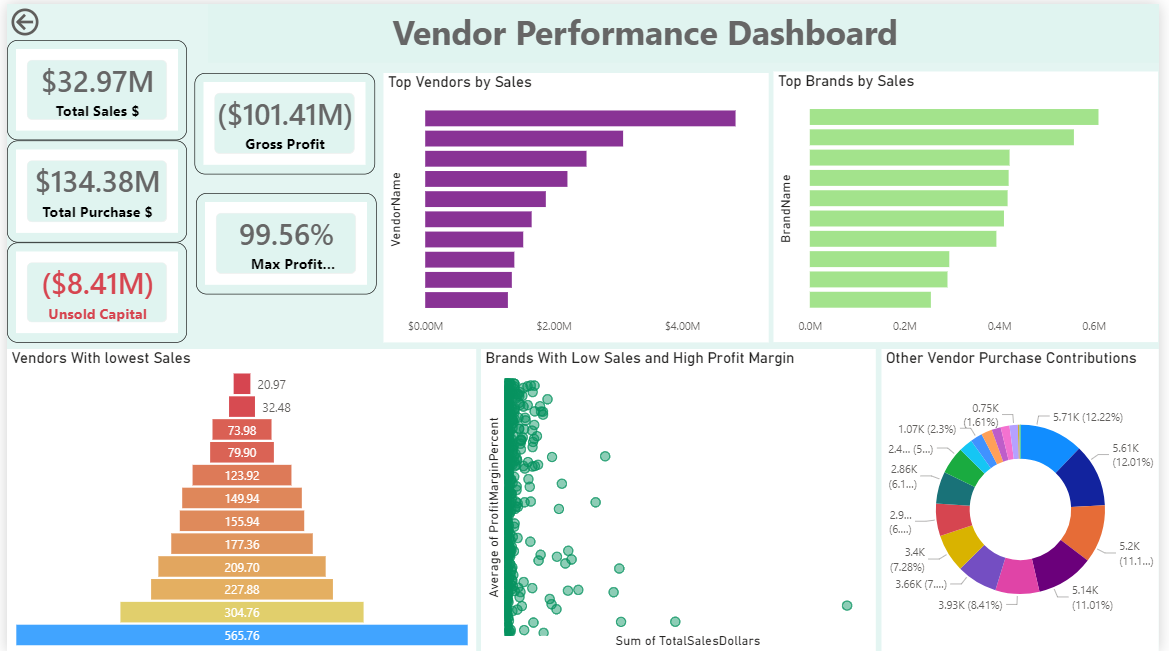

Layout of this report page (visuals, bound fields, positions):
{"tool":"powerbi","page":{"name":"Vendor & Brand Sales","canvas":[1280,720],"ordinal":0},"visuals":[{"type":"scatterChart","title":"Brands With Low Sales and High Profit Margin","fields":{"Category":["vendor_sales_summary_copy.Description"],"X":["Sum(vendor_sales_summary_copy.TotalSalesDollars)"],"Y":["Avg(vendor_sales_summary_copy.ProfitMarginPercent)"]},"box":[527.2,383.6,438.4,336.4],"z":0},{"type":"actionButton","box":[0,0,100,40],"z":1000},{"type":"clusteredBarChart","title":"Top Brands by Sales","fields":{"Category":["vendor_sales_summary_copy.Description"],"Y":["Sum(vendor_sales_summary_copy.TotalSalesDollars)"]},"box":[852.3,75.6,427.1,300.5],"z":2000},{"type":"donutChart","title":"Other Vendor Purchase Contributions","fields":{"Category":["vendor_sales_summary_copy.VendorName"],"Y":["Sum(vendor_sales_summary_copy.TotalPurchasedDollars)"]},"box":[971.3,383.6,308,336.4],"z":3000},{"type":"cardVisual","fields":{"Data":["Sum(vendor_sales_summary_copy.TotalPurchasedDollars)"]},"box":[0,151.2,200.3,113.4],"z":4000},{"type":"clusteredBarChart","title":"Top Vendors by Sales","fields":{"Category":["vendor_sales_summary_copy.VendorName"],"Y":["Sum(vendor_sales_summary_copy.TotalSalesDollars)"]},"box":[418.3,76.3,427.9,299],"z":5000},{"type":"funnel","title":"Vendors With lowest Sales","fields":{"Category":["vendor_sales_summary_copy.VendorName"],"Y":["Sum(vendor_sales_summary_copy.TotalSalesDollars)"]},"box":[0,383.6,521.6,336.4],"z":6000},{"type":"cardVisual","fields":{"Data":["Sum(vendor_sales_summary_copy.TotalSalesDollars)"]},"box":[0,39.7,200.3,111.5],"z":7000},{"type":"cardVisual","fields":{"Data":["vendor_sales_summary_copy.Unsold Capital"]},"box":[0,264.6,200.3,111.5],"z":8000},{"type":"cardVisual","fields":{"Data":["Max(vendor_sales_summary_copy.ProfitMarginPercent)"]},"box":[210,210,200.4,112.9],"z":9000},{"type":"cardVisual","fields":{"Data":["Sum(vendor_sales_summary_copy.GrossProfit)"]},"box":[208.4,76.3,200.4,112.9],"z":10000},{"type":"textbox","box":[222.7,0,1057.8,65.2],"z":11000},{"type":"shape","box":[1170.7,8,109.8,50.9],"z":12000}]}

Visuals, with their boxes in screenshot pixels (x1, y1, x2, y2), scaled from the page's 1280x720 canvas onto the 1169x651 screenshot:
"Brands With Low Sales and High Profit Margin" scatterChart: BBox(481, 347, 882, 650)
actionButton: BBox(0, 0, 91, 36)
"Top Brands by Sales" clusteredBarChart: BBox(778, 68, 1168, 340)
"Other Vendor Purchase Contributions" donutChart: BBox(887, 347, 1168, 650)
cardVisual - Sum(vendor_sales_summary_copy.TotalPurchasedDollars): BBox(0, 137, 183, 239)
"Top Vendors by Sales" clusteredBarChart: BBox(382, 69, 773, 339)
"Vendors With lowest Sales" funnel: BBox(0, 347, 476, 650)
cardVisual - Sum(vendor_sales_summary_copy.TotalSalesDollars): BBox(0, 36, 183, 137)
cardVisual - vendor_sales_summary_copy.Unsold Capital: BBox(0, 239, 183, 340)
cardVisual - Max(vendor_sales_summary_copy.ProfitMarginPercent): BBox(192, 190, 375, 292)
cardVisual - Sum(vendor_sales_summary_copy.GrossProfit): BBox(190, 69, 373, 171)
textbox: BBox(203, 0, 1168, 59)
shape: BBox(1069, 7, 1168, 53)
